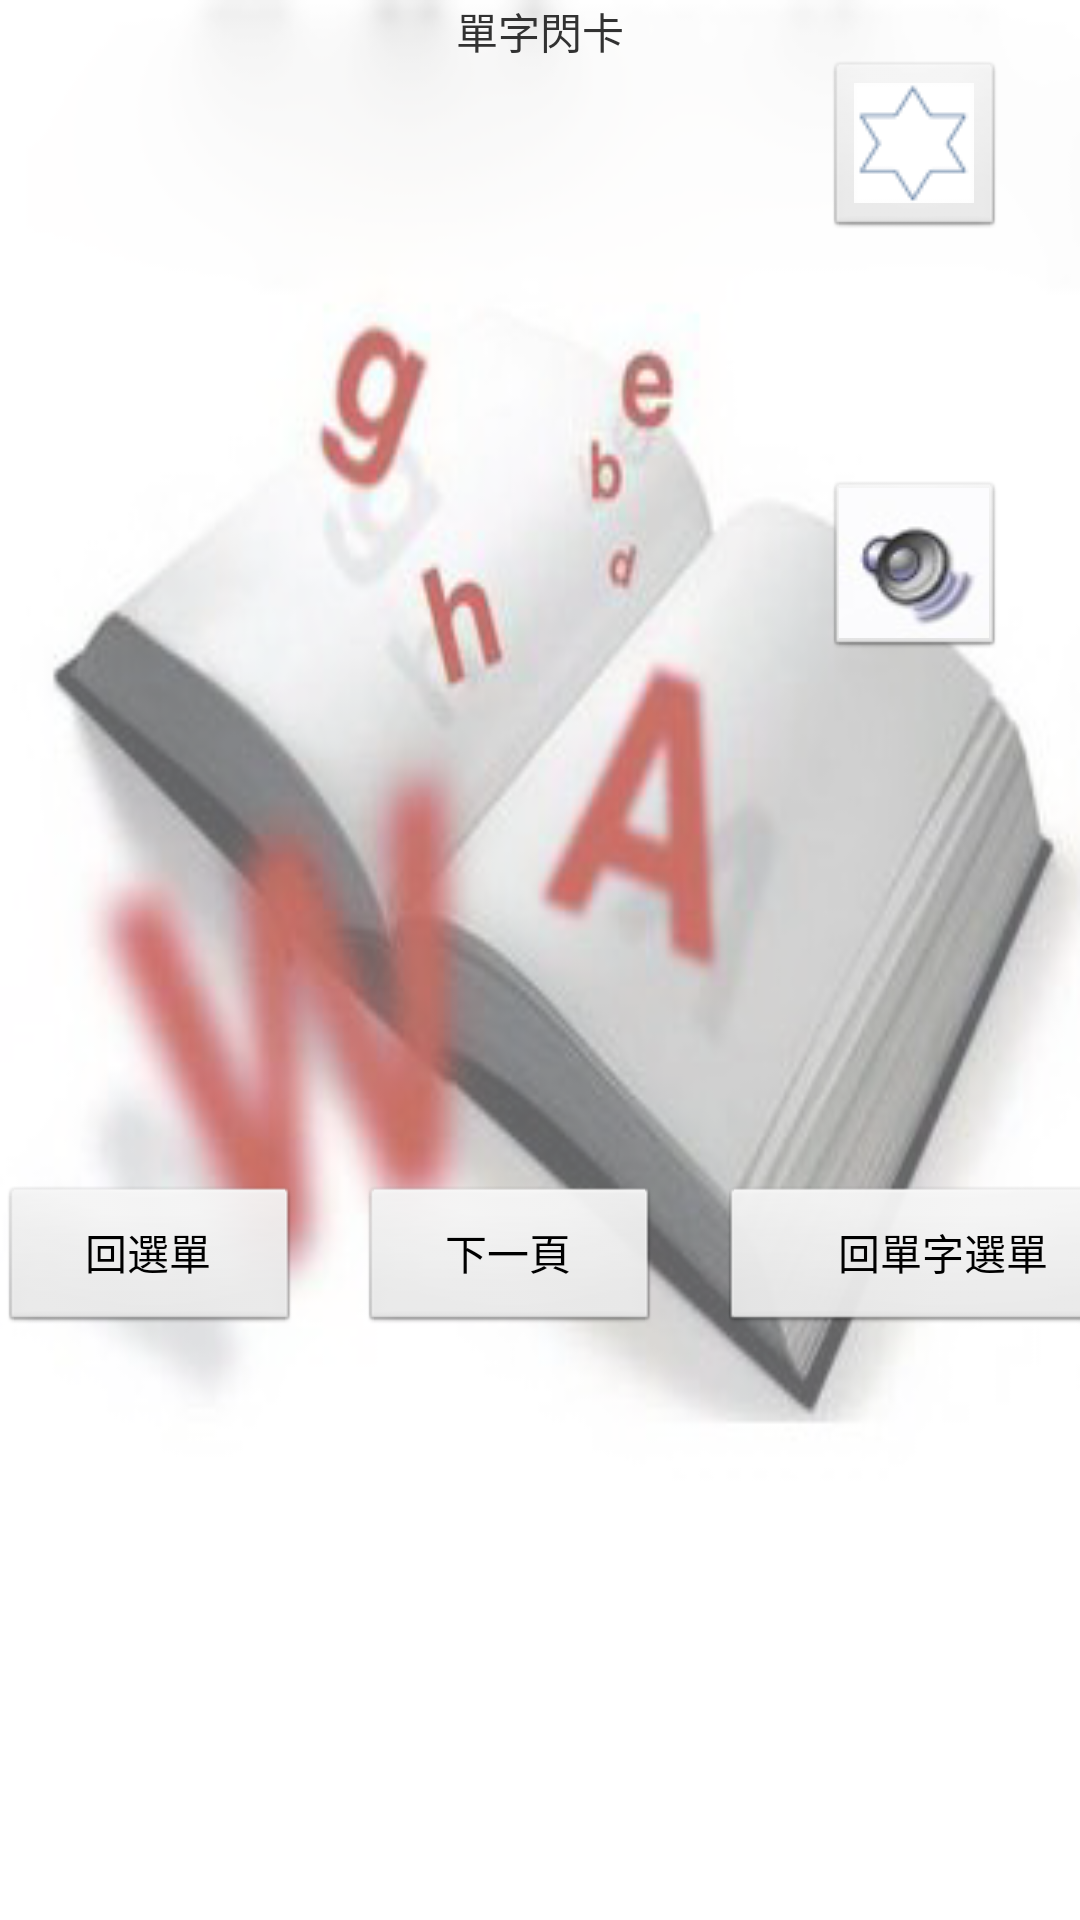

Icon click points for this 1080x1920 phone screenshot, format [x,y]:
horn: [916,575]
star: [914,146]
